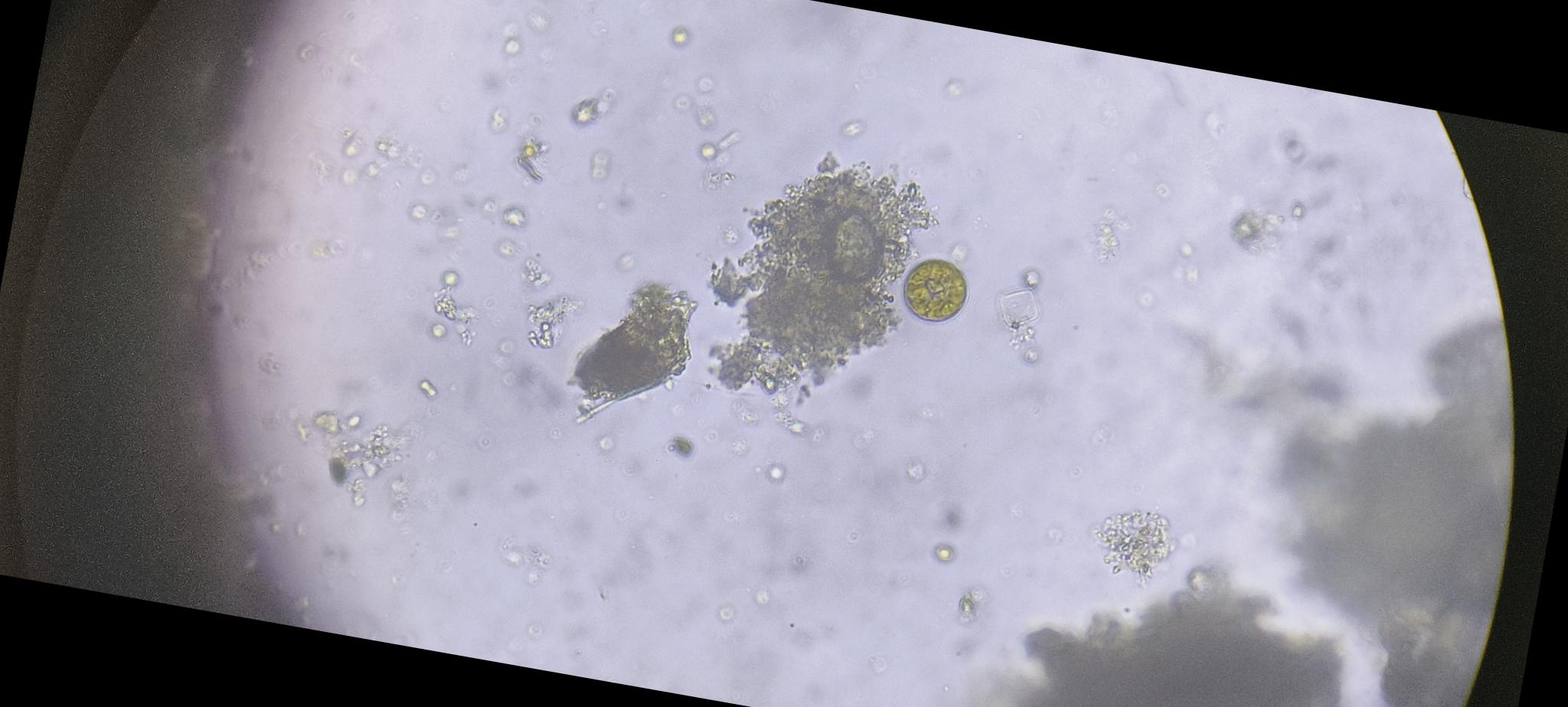Chlorella: (894, 251, 972, 328)
